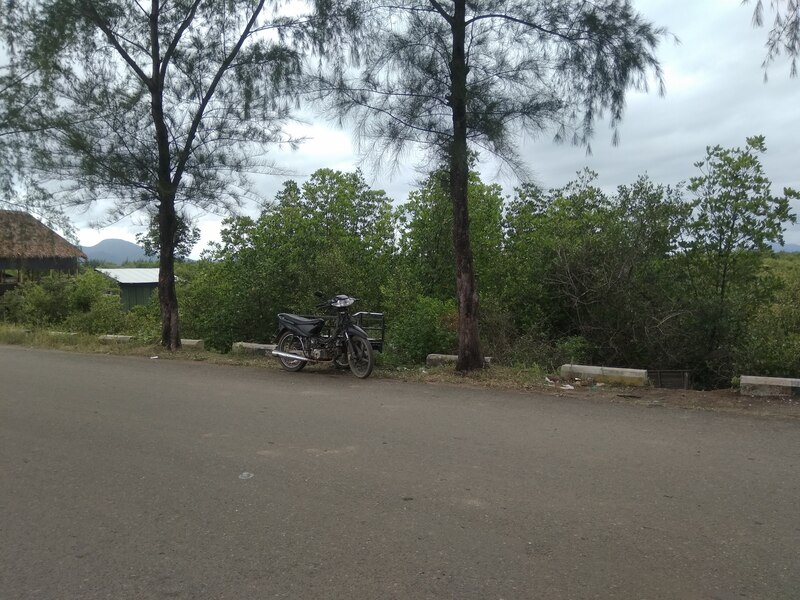becak barang: (264, 285, 391, 386)
